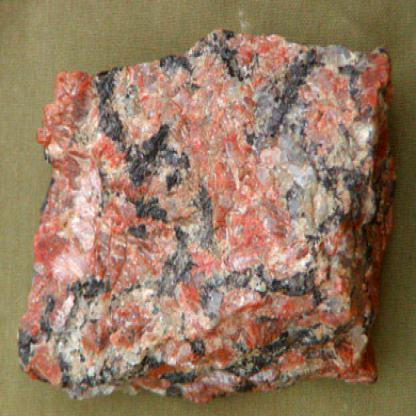Igneous_Granite: (15, 30, 394, 402)
